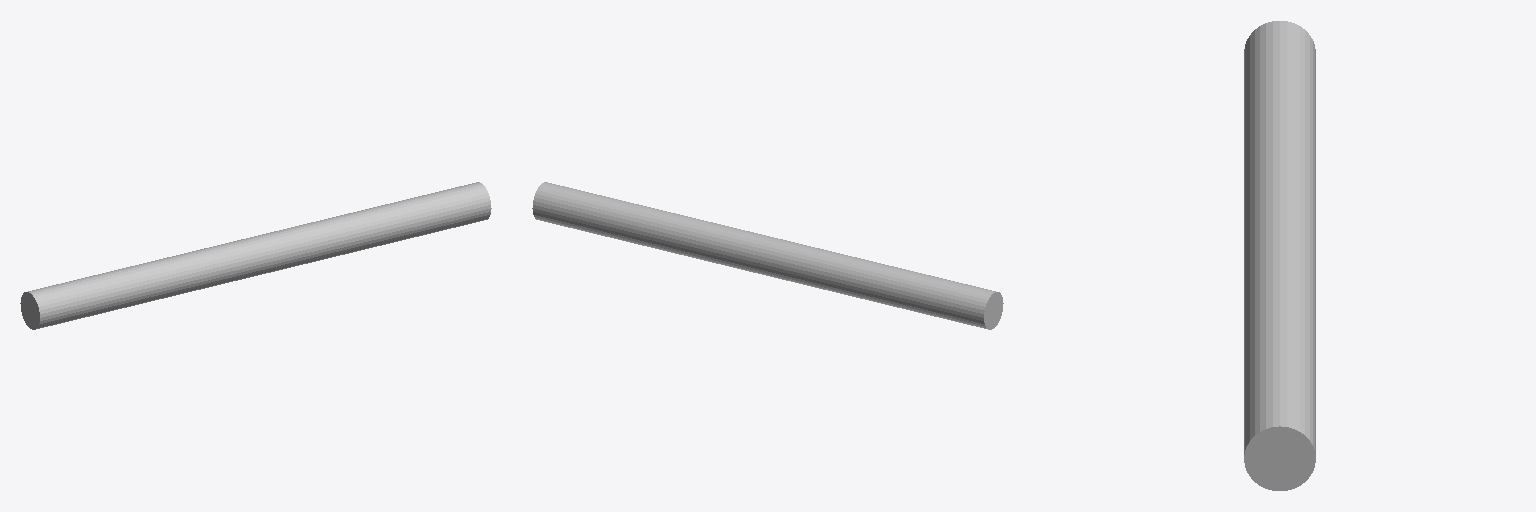
URDF robot description (rod):
<?xml version="1.0" encoding="utf-8"?>
<robot name="rod">
  <link name="rod_Link">
    <inertial>
      <origin xyz="0 0 0" rpy="0 0 0"/>
      <mass value="0.8"/>
      <inertia ixx="0.001" iyy="0.001" izz="0.0005" ixy="0" ixz="0" iyz="0"/>
    </inertial>
    <visual>
      <origin xyz="0 0 0" rpy="0 -1.57 0"/>
      <geometry><cylinder length="0.8" radius="0.030"/></geometry>
      <material name="gray"><color rgba="0.8 0.8 0.8 1"/></material>
    </visual>
    <collision>
      <origin xyz="0 0 0" rpy="0 -1.57 0"/>
      <geometry><cylinder length="0.8" radius="0.030"/></geometry>
    </collision>
  </link>
</robot>

--- Facts derived from the render (not from the file) ---
The picture shows the robot from 3 angles, left to right: view 1: azimuth 30°, elevation 25°; view 2: azimuth 150°, elevation 25°; view 3: azimuth 270°, elevation 25°; orthographic projection.
Robot: rod — 1 links, 0 joints (none); root link rod_Link; default pose: every joint at zero.
Visible links, largest first — view 1: rod_Link; view 2: rod_Link; view 3: rod_Link.
Link boxes in pixels (<box>): rod_Link: <box>20,182,491,329</box>; rod_Link: <box>532,182,1003,329</box>; rod_Link: <box>1244,21,1315,490</box>.
Bounding box of the posed robot: 0.8 × 0.06 × 0.0606 m (x, y, z).
Geometry: primitives only (box / cylinder / sphere), no mesh files.
